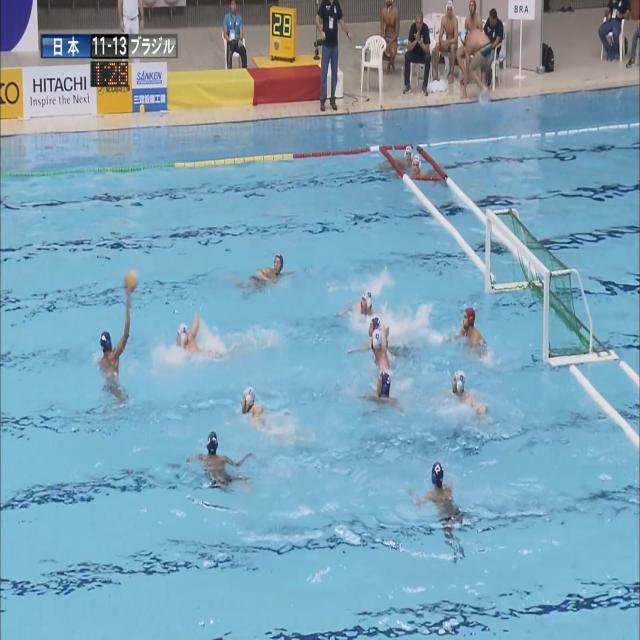ball: (124, 270, 137, 292)
